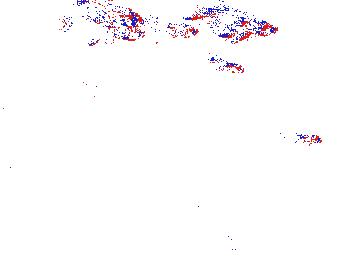X-ray fish: (138, 70, 168, 113), (322, 181, 346, 209)
red belly glassfish: (207, 55, 246, 76), (283, 130, 323, 149)
redtail glassfish: (186, 1, 281, 39), (56, 13, 146, 47), (125, 15, 198, 45), (72, 1, 145, 28)
